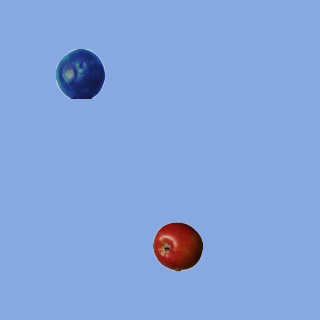Apple Braeburn: (152, 221, 202, 271)
Huckleberry: (55, 48, 105, 98)
